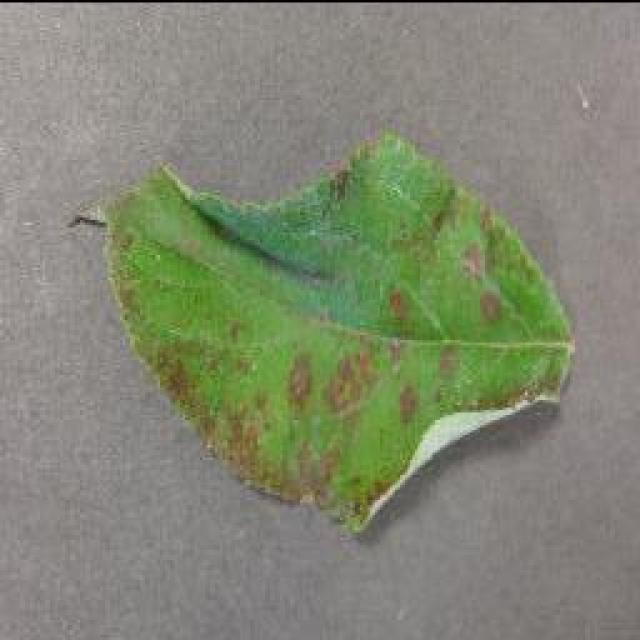apple rust disease: (80, 122, 575, 538)
